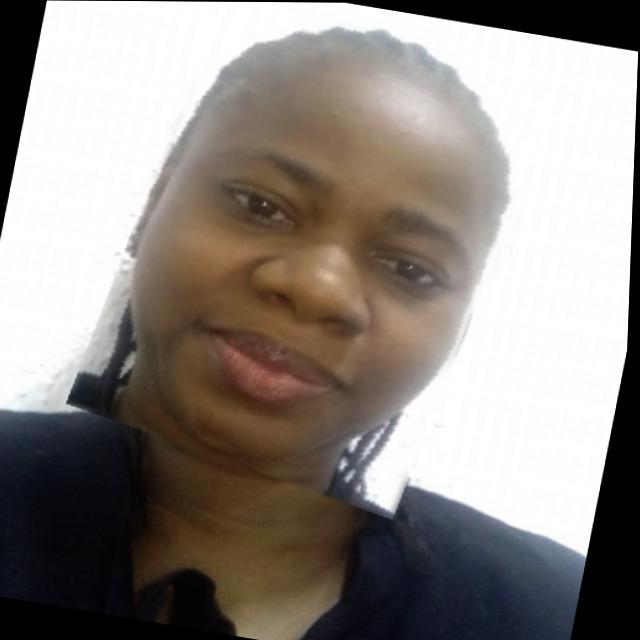happy: (77, 1, 548, 516)
